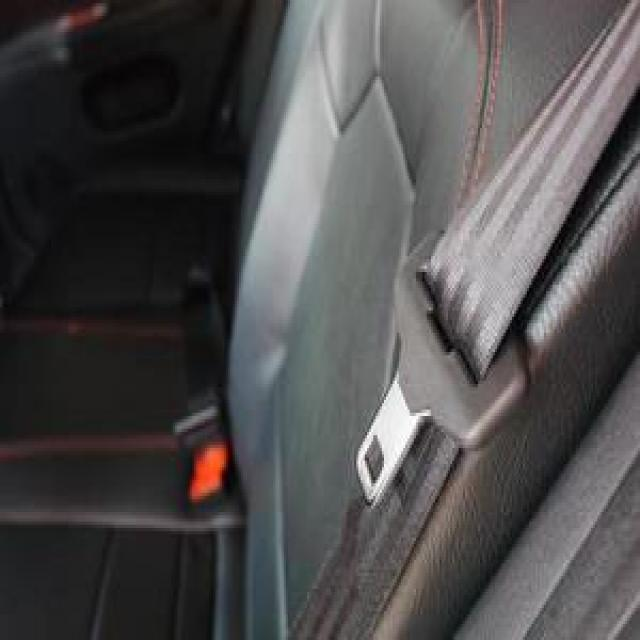seatbelt: (286, 6, 638, 634)
